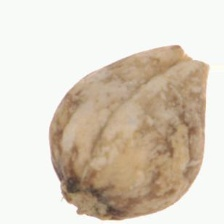L1: (59, 178, 117, 221), (169, 44, 210, 80)
L2: (48, 43, 210, 221)
